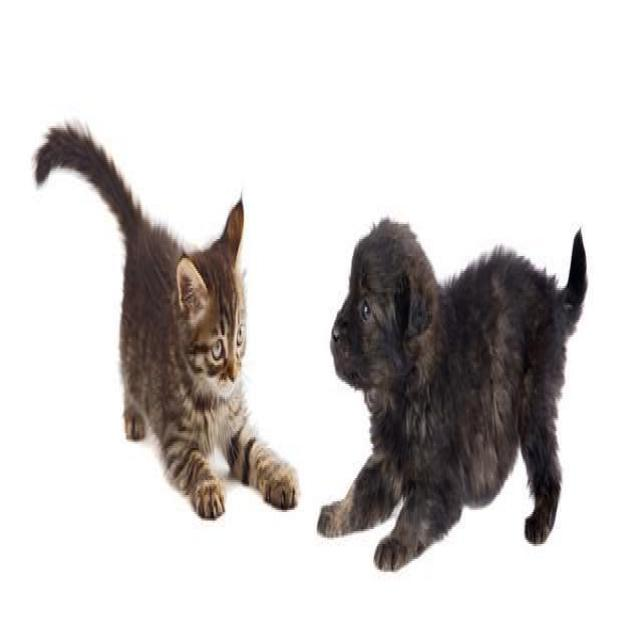cat: (32, 86, 298, 544)
dog: (313, 179, 599, 568)
